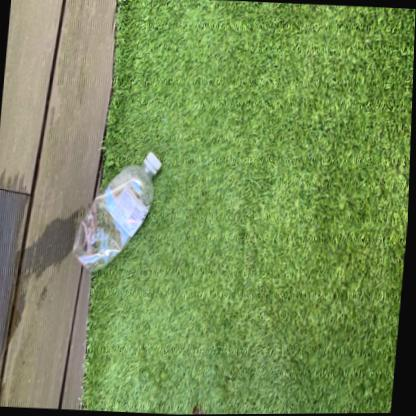Plastic: (75, 151, 162, 270)
